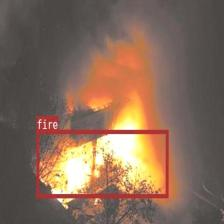fire: (36, 130, 168, 198)
